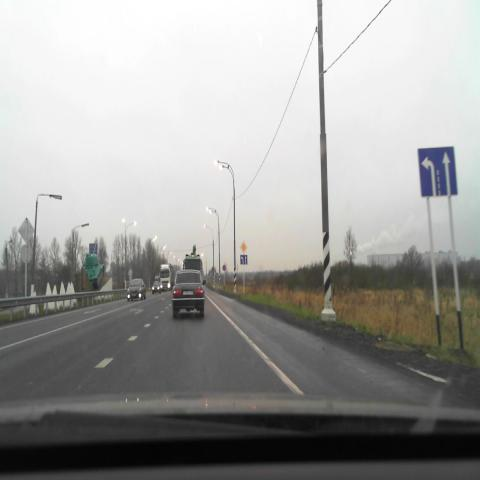5_15_2_2: (418, 147, 459, 197)
